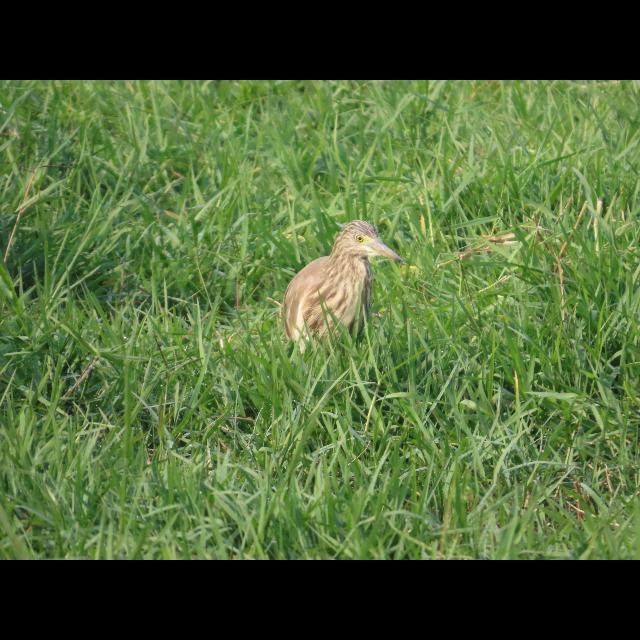heron: (277, 212, 398, 356)
